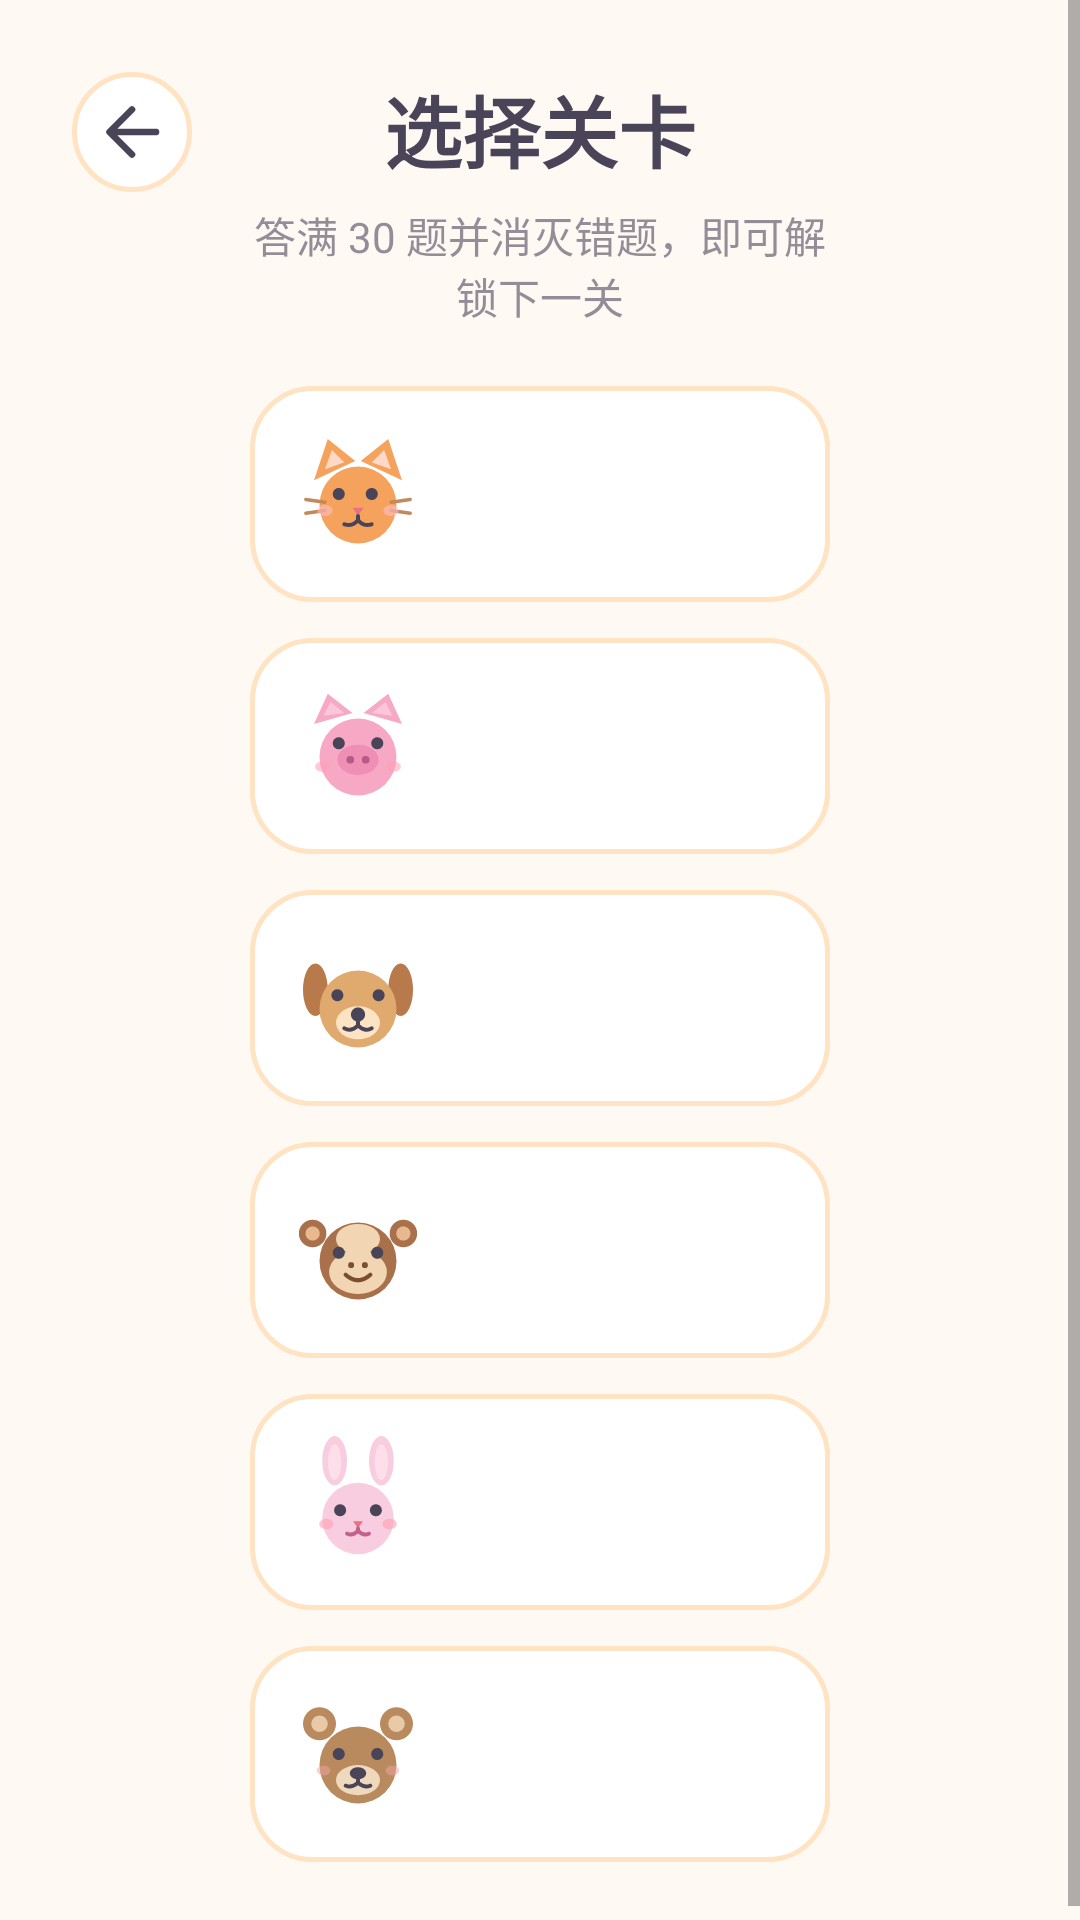

Named icons in this screenshot (1080 × 1920) and their bounding boxes, BBox(x1, y1, x2, y2):
bear: BBox(303, 1707, 413, 1804)
cat: BBox(304, 439, 412, 544)
dog: BBox(303, 963, 413, 1048)
monkey: BBox(299, 1219, 417, 1300)
pig: BBox(314, 694, 402, 796)
rabbit: BBox(319, 1436, 397, 1554)
返回答题页: BBox(72, 72, 192, 192)
